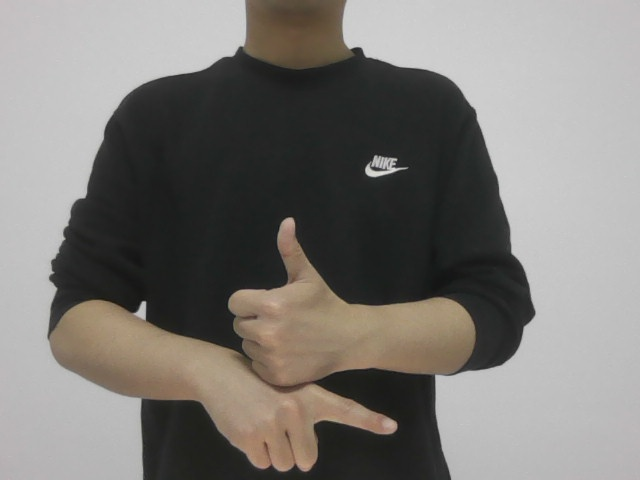birthday: (208, 209, 398, 477)
